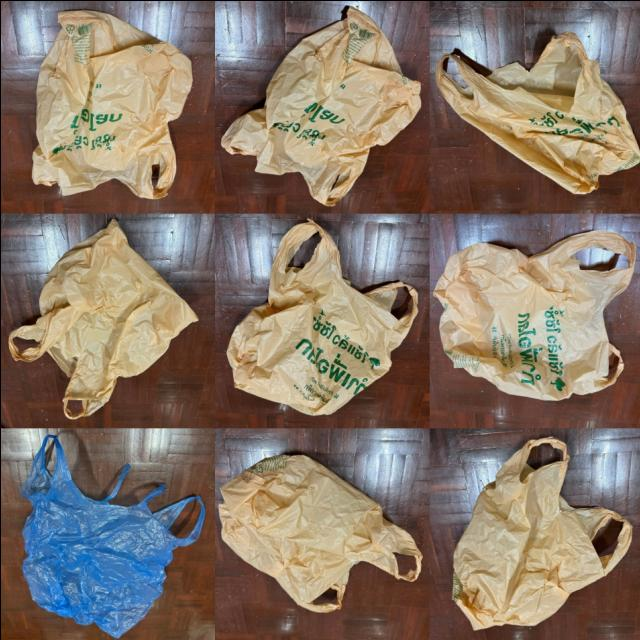plastik: (221, 7, 419, 206), (8, 219, 197, 418), (19, 434, 203, 637), (226, 220, 417, 414), (452, 436, 631, 629), (433, 229, 635, 399), (436, 31, 640, 193), (218, 453, 421, 612), (32, 9, 192, 197)
